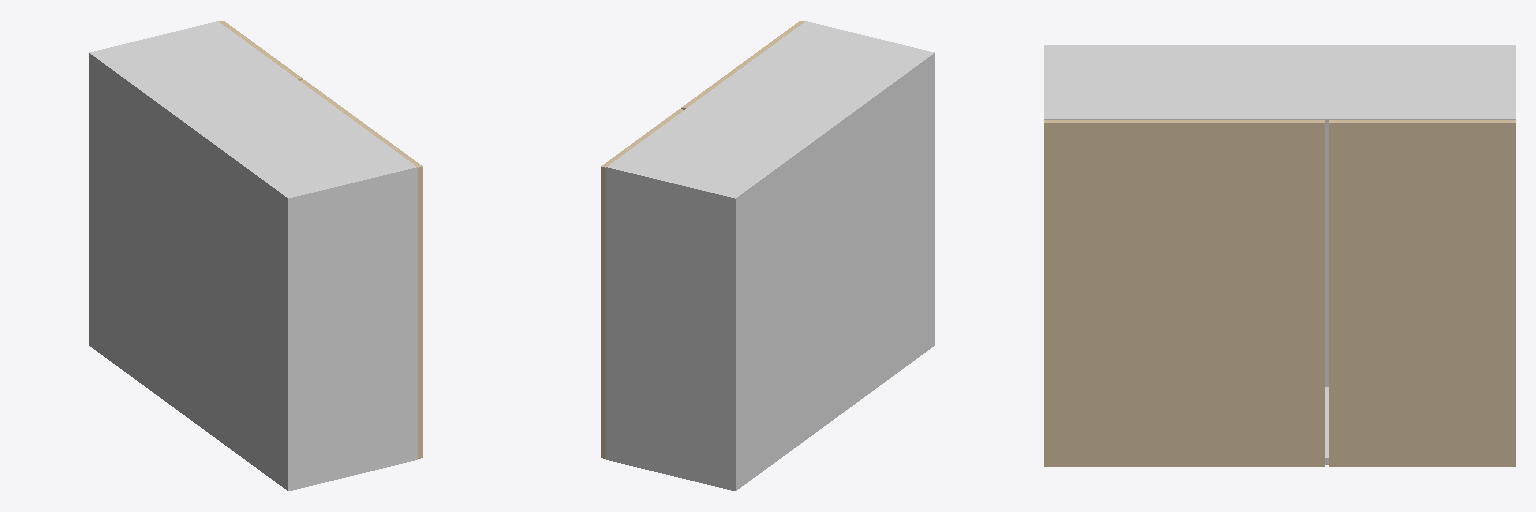
URDF robot description (wall_cabinet):
<?xml version="1.0" ?>
<!-- =================================================================================== -->
<!-- |    This document was autogenerated by xacro from ../xacro/wall_cabinet.urdf.xacro | -->
<!-- |    EDITING THIS FILE BY HAND IS NOT RECOMMENDED                                 | -->
<!-- =================================================================================== -->
<robot name="wall_cabinet">
  <material name="White">
    <color rgba="0.9 0.9 0.9 1.0"/>
  </material>
  <material name="Glass">
    <color rgba="0.9 0.9 0.9 0.9"/>
  </material>
  <material name="Black">
    <color rgba="0.3 0.3 0.3 1.0"/>
  </material>
  <material name="Oak">
    <color rgba="0.89 0.81 0.69 1.0"/>
  </material>
  <!--  <xacro:macro name="handle" params="prefix parent *origin">-->
  <!--    <link name="${prefix}_handle">-->
  <!--      <visual>-->
  <!--        <origin xyz="0 0 0" rpy="0 0 0"/>-->
  <!--        &lt;!&ndash;        <geometry>&ndash;&gt;-->
  <!--        &lt;!&ndash;          <box size="${worktop_ydim worktop_xdim worktop_zdim}"/>&ndash;&gt;-->
  <!--        &lt;!&ndash;        </geometry>&ndash;&gt;-->
  <!--        <material name="Black"/>-->
  <!--      </visual>-->
  <!--      <collision>-->
  <!--        <origin xyz="0 0 0" rpy="0 0 0"/>-->
  <!--        &lt;!&ndash;        <geometry>&ndash;&gt;-->
  <!--        &lt;!&ndash;          <box size="${worktop_ydim worktop_xdim worktop_zdim}"/>&ndash;&gt;-->
  <!--        &lt;!&ndash;        </geometry>&ndash;&gt;-->
  <!--      </collision>-->
  <!--      <inertial>-->
  <!--        <mass value="${handle_mass}"/>-->
  <!--        &lt;!&ndash;        <origin xyz="0 0 0"/>&ndash;&gt;-->
  <!--        &lt;!&ndash;        <xacro:box_inertia mass="${worktop_mass}" ydim="${worktop_ydim}" xdim="${worktop_xdim}"&ndash;&gt;-->
  <!--        &lt;!&ndash;                           zdim="${worktop_zdim}"/>&ndash;&gt;-->
  <!--      </inertial>-->
  <!--    </link>-->
  <!--    <joint name="{prefix}_handle_joint" type="fixed">-->
  <!--      <parent link="${parent}"/>-->
  <!--      <child link="{prefix}_handle_link"/>-->
  <!--      <xacro:insert_block name="origin"/>-->
  <!--    </joint>-->
  <!--  </xacro:macro>-->
  <!-- Using meter, kg -->
  <link name="wc_frame_back_panel">
    <visual>
      <origin xyz="0 0 0"/>
      <geometry>
        <box size="0.016 1 0.81"/>
      </geometry>
      <material name="White"/>
    </visual>
    <collision>
      <origin xyz="0 0 0"/>
      <geometry>
        <box size="0.016 1 0.81"/>
      </geometry>
    </collision>
    <inertial>
      <origin xyz="0 0 0"/>
      <mass value="20"/>
      <inertia ixx="2.7601666666666667" ixy="0" ixz="0" iyy="1.093926666666667" iyz="0" izz="1.6670933333333335"/>
    </inertial>
  </link>
  <link name="wc_frame_left_side_panel">
    <visual>
      <origin xyz="0 0 0"/>
      <geometry>
        <box size="0.374 0.016 0.81"/>
      </geometry>
      <material name="White"/>
    </visual>
    <collision>
      <origin xyz="0 0 0"/>
      <geometry>
        <box size="0.374 0.016 0.81"/>
      </geometry>
    </collision>
    <inertial>
      <origin xyz="0 0 0"/>
      <mass value="10"/>
      <inertia ixx="0.5469633333333335" ixy="0" ixz="0" iyy="0.6633133333333334" iyz="0" izz="0.11677666666666668"/>
    </inertial>
  </link>
  <joint name="wc_frame_left_side_panel_joint" type="fixed">
    <origin rpy="0 0 0" xyz="0.179                    0.492 0"/>
    <parent link="wc_frame_back_panel"/>
    <child link="wc_frame_left_side_panel"/>
  </joint>
  <link name="wc_frame_right_side_panel">
    <visual>
      <origin xyz="0 0 0"/>
      <geometry>
        <box size="0.374 0.016 0.81"/>
      </geometry>
      <material name="White"/>
    </visual>
    <collision>
      <origin xyz="0 0 0"/>
      <geometry>
        <box size="0.374 0.016 0.81"/>
      </geometry>
    </collision>
    <inertial>
      <origin xyz="0 0 0"/>
      <mass value="10"/>
      <inertia ixx="0.5469633333333335" ixy="0" ixz="0" iyy="0.6633133333333334" iyz="0" izz="0.11677666666666668"/>
    </inertial>
  </link>
  <joint name="wc_frame_right_side_panel_joint" type="fixed">
    <origin rpy="0 0 0" xyz="0.179                    -0.492 0"/>
    <parent link="wc_frame_back_panel"/>
    <child link="wc_frame_right_side_panel"/>
  </joint>
  <link name="wc_frame_top_panel">
    <visual>
      <origin xyz="0 0 0"/>
      <geometry>
        <box size="0.374 1 0.016"/>
      </geometry>
      <material name="White"/>
    </visual>
    <collision>
      <origin xyz="0 0 0"/>
      <geometry>
        <box size="0.374 1 0.016"/>
      </geometry>
    </collision>
    <inertial>
      <origin xyz="0 0 0"/>
      <mass value="20"/>
      <inertia ixx="1.6670933333333335" ixy="0" ixz="0" iyy="0.23355333333333336" iyz="0" izz="1.8997933333333334"/>
    </inertial>
  </link>
  <joint name="wc_frame_top_panel_joint" type="fixed">
    <origin rpy="0 0 0" xyz="0.179 0                    0.397"/>
    <parent link="wc_frame_back_panel"/>
    <child link="wc_frame_top_panel"/>
  </joint>
  <link name="wc_frame_bottom_panel">
    <visual>
      <origin xyz="0 0 0"/>
      <geometry>
        <box size="0.374 1 0.016"/>
      </geometry>
      <material name="White"/>
    </visual>
    <collision>
      <origin xyz="0 0 0"/>
      <geometry>
        <box size="0.374 1 0.016"/>
      </geometry>
    </collision>
    <inertial>
      <origin xyz="0 0 0"/>
      <mass value="20"/>
      <inertia ixx="1.6670933333333335" ixy="0" ixz="0" iyy="0.23355333333333336" iyz="0" izz="1.8997933333333334"/>
    </inertial>
  </link>
  <joint name="wc_frame_bottom_panel_joint" type="fixed">
    <origin rpy="0 0 0" xyz="0.179 0                    -0.397"/>
    <parent link="wc_frame_back_panel"/>
    <child link="wc_frame_bottom_panel"/>
  </joint>
  <link name="wall_cabinet_c1_door">
    <visual>
      <origin xyz="0.008 0.298 0"/>
      <geometry>
        <box size="0.016 0.596 0.806"/>
      </geometry>
      <material name="Oak"/>
    </visual>
    <collision>
      <origin xyz="0.008 0.298 0"/>
      <geometry>
        <box size="0.016 0.596 0.806"/>
      </geometry>
    </collision>
    <inertial>
      <origin xyz="0.008 0.298 0"/>
      <mass value="3.31"/>
      <inertia ixx="0.2771716766666667" ixy="0" ixz="0" iyy="0.1792618766666667" iyz="0" izz="0.09805102666666665"/>
    </inertial>
  </link>
  <joint name="wall_cabinet_c1_door_joint" type="revolute">
    <parent link="wc_frame_back_panel"/>
    <child link="wall_cabinet_c1_door"/>
    <limit effort="10" lower="0" upper="1.5707963267948966" velocity="1"/>
    <dynamics damping="100" friction="0.1"/>
    <origin xyz="0.366 -0.5 0"/>
    <axis xyz="0 0 -1"/>
  </joint>
  <link name="wall_cabinet_c2_door">
    <visual>
      <origin xyz="0.008 -0.198 0"/>
      <geometry>
        <box size="0.016 0.396 0.806"/>
      </geometry>
      <material name="Oak"/>
    </visual>
    <collision>
      <origin xyz="0.008 -0.198 0"/>
      <geometry>
        <box size="0.016 0.396 0.806"/>
      </geometry>
    </collision>
    <inertial>
      <origin xyz="0.008 -0.198 0"/>
      <mass value="3.31"/>
      <inertia ixx="0.22244634333333338" ixy="0" ixz="0" iyy="0.1792618766666667" iyz="0" izz="0.04332569333333334"/>
    </inertial>
  </link>
  <joint name="wall_cabinet_c2_door_joint" type="revolute">
    <parent link="wc_frame_back_panel"/>
    <child link="wall_cabinet_c2_door"/>
    <limit effort="10" lower="0" upper="1.5707963267948966" velocity="1"/>
    <dynamics damping="100" friction="0.1"/>
    <origin xyz="0.366 0.5 0"/>
    <axis xyz="0 0 1"/>
  </joint>
</robot>

--- Render facts (derived) ---
The picture shows the robot from 3 angles, left to right: view 1: azimuth 30°, elevation 25°; view 2: azimuth 150°, elevation 25°; view 3: azimuth 270°, elevation 25°; orthographic projection.
Model wall_cabinet with 7 links and 6 joints (2 revolute, 4 fixed), rooted at wc_frame_back_panel, posed all joints at 0.
Links seen in each view (by area): view 1: wc_frame_back_panel, wc_frame_right_side_panel, wc_frame_top_panel, wall_cabinet_c1_door, wc_frame_bottom_panel; view 2: wc_frame_back_panel, wc_frame_left_side_panel, wc_frame_top_panel, wall_cabinet_c2_door, wall_cabinet_c1_door, wc_frame_bottom_panel; view 3: wall_cabinet_c1_door, wall_cabinet_c2_door, wc_frame_top_panel, wc_frame_back_panel, wc_frame_right_side_panel.
Link boxes in pixels (box(x1,y1,x2,y2)): wc_frame_back_panel: box(89, 51, 293, 490); wc_frame_right_side_panel: box(287, 165, 417, 490); wc_frame_top_panel: box(93, 22, 416, 202); wall_cabinet_c1_door: box(300, 80, 422, 458); wc_frame_bottom_panel: box(89, 344, 417, 490); wc_frame_back_panel: box(730, 51, 934, 490); wc_frame_left_side_panel: box(606, 165, 738, 490); wc_frame_top_panel: box(607, 21, 933, 203); wall_cabinet_c2_door: box(601, 109, 683, 458); wall_cabinet_c1_door: box(681, 21, 804, 109); wc_frame_bottom_panel: box(609, 340, 934, 489); wall_cabinet_c1_door: box(1044, 120, 1324, 466); wall_cabinet_c2_door: box(1329, 120, 1515, 466); wc_frame_top_panel: box(1044, 45, 1515, 125); wc_frame_back_panel: box(1052, 46, 1328, 386); wc_frame_right_side_panel: box(1044, 45, 1051, 119).
Bounding box of the posed robot: 0.39 × 1 × 0.81 m (x, y, z).
Geometry: primitives only (box / cylinder / sphere), no mesh files.
